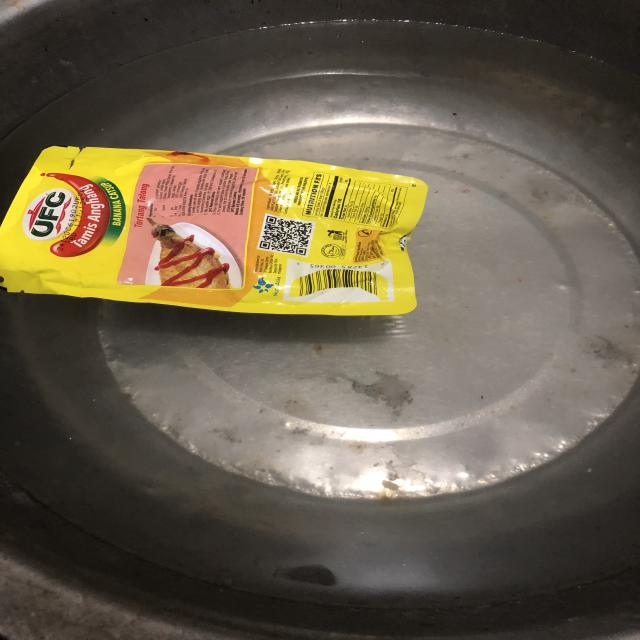Plastic Pouch: (0, 122, 438, 358)
